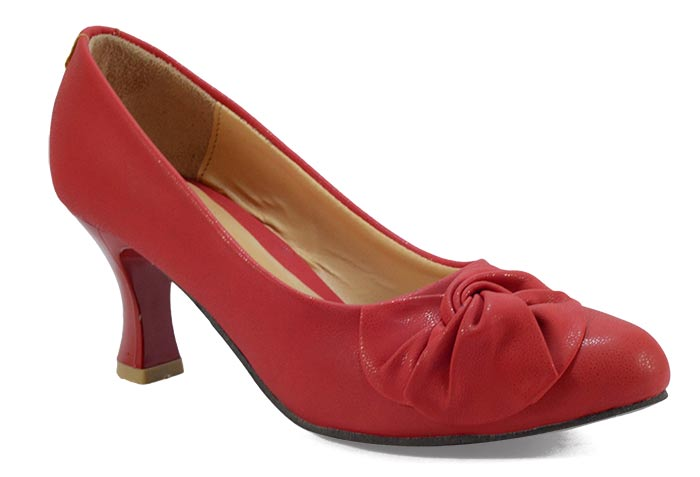Footwear: (42, 21, 678, 452)
